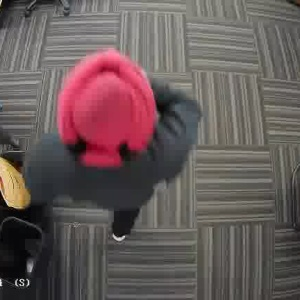person: (33, 55, 191, 217)
